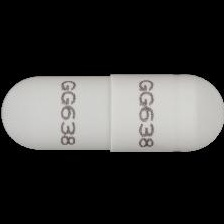0781-2148: (0, 0, 224, 224)
